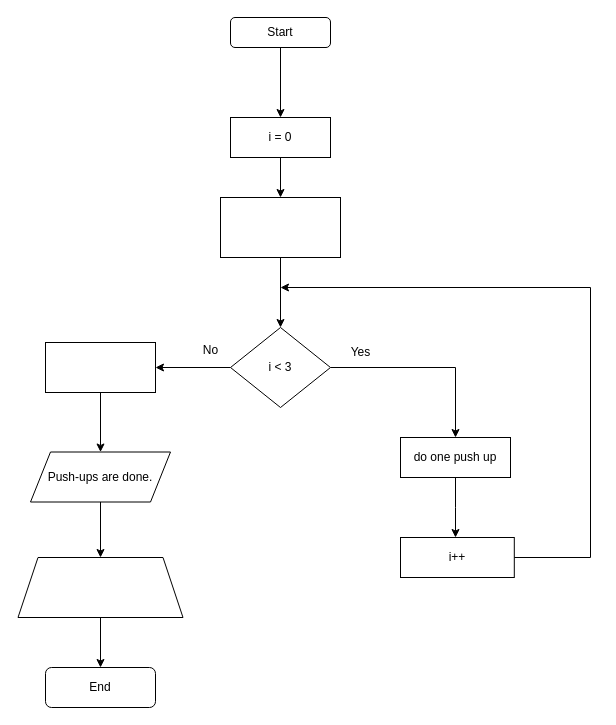
Image size: 616x725. Some labels were removed from this diagram. Here are the shapes that lost their labels. From the top down, the centre of each, then its label:
At (280,227): "Robot fall into the ground".
At (100,367): "Stand up".
At (100,587): "Record Performance Data".
